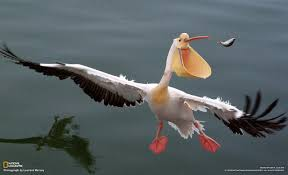pelican: (1, 30, 287, 153)
